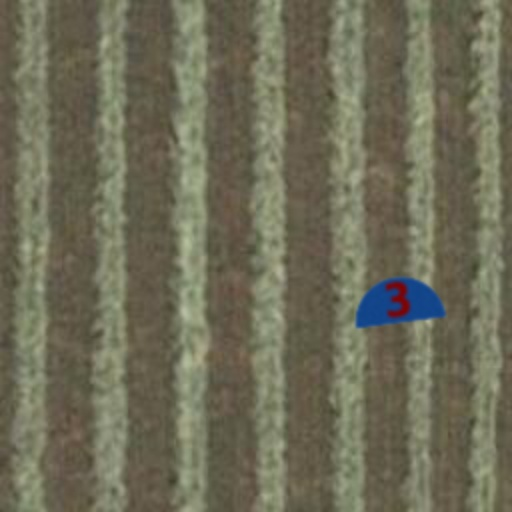semicircle: (346, 248, 450, 352)
